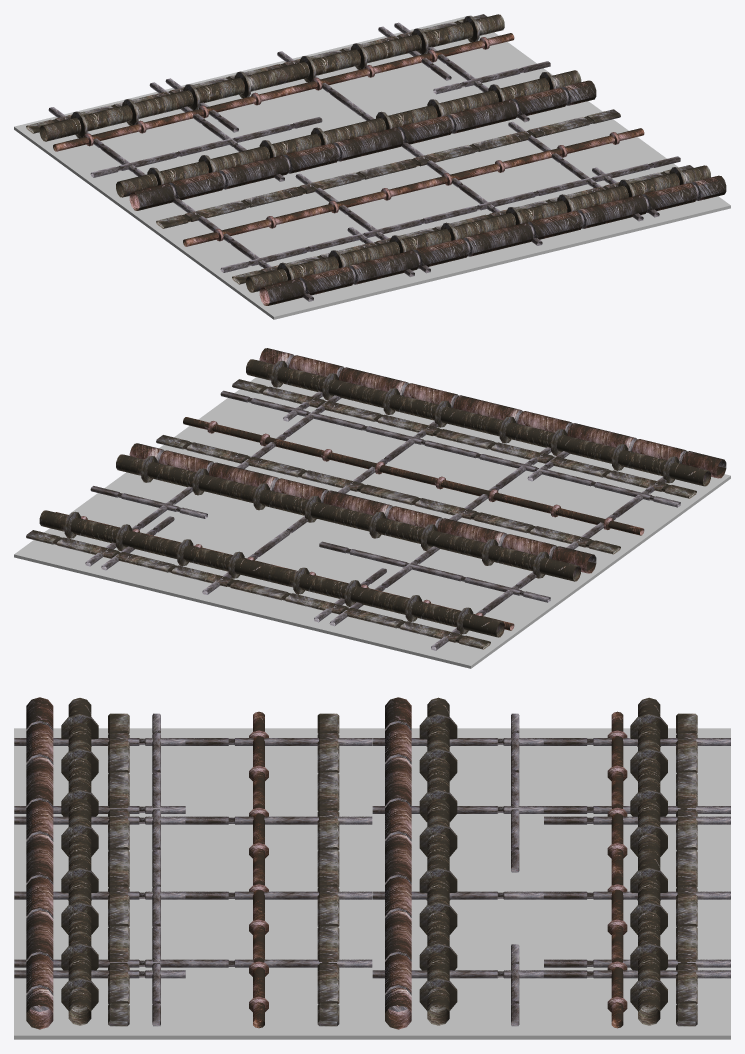
The model's file is MetalCeiling+Pipe.fbx.
3 views of the same model, one above another, from view 1: azimuth 30°, elevation 25°; view 2: azimuth 150°, elevation 25°; view 3: azimuth 270°, elevation 25° (orthographic). The views are drawn at different scales.
Parts seen in each view (by area): view 1: polySurface583; view 2: polySurface583; view 3: polySurface583.
Part boxes in pixels (left/top/right/bottom): polySurface583: left=14, top=14, right=730, bottom=319; polySurface583: left=14, top=348, right=730, bottom=668; polySurface583: left=14, top=697, right=730, bottom=1039.
Bounding box in the file's own units: 144 × 9.08 × 142.
